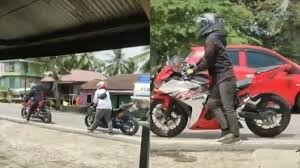motor: (152, 67, 294, 133), (18, 97, 57, 123)
